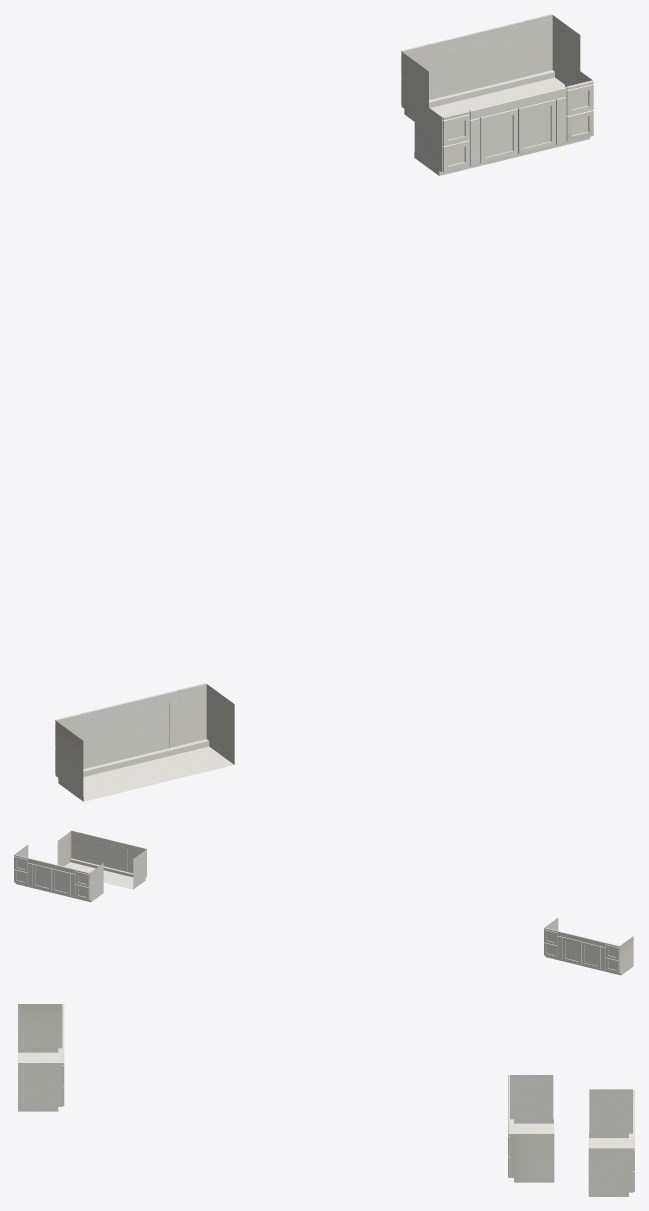
Rendered from Cabinets_Linen_.glb.
3 views of the same model, one above another, from view 1: azimuth 30°, elevation 25°; view 2: azimuth 150°, elevation 25°; view 3: azimuth 270°, elevation 25° (orthographic). The views are drawn at different scales.
Parts seen in each view (by area): view 1: Bathroom_Cabinet_Linen_2345; view 2: Bathroom_Cabinet_Linen_2345; view 3: Bathroom_Cabinet_Linen_2345.
Part boxes in pixels (x1,y1,x2,y2): Bathroom_Cabinet_Linen_2345: (55,14,593,801); Bathroom_Cabinet_Linen_2345: (14,830,633,975); Bathroom_Cabinet_Linen_2345: (18,1004,634,1196).
Size of the model in its own units: 16.16 by 5.37 by 12.73.
Materials: 1 (1 with a texture image).
